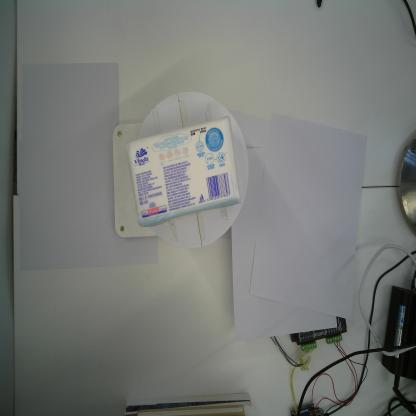Tissue: (126, 115, 242, 228)
